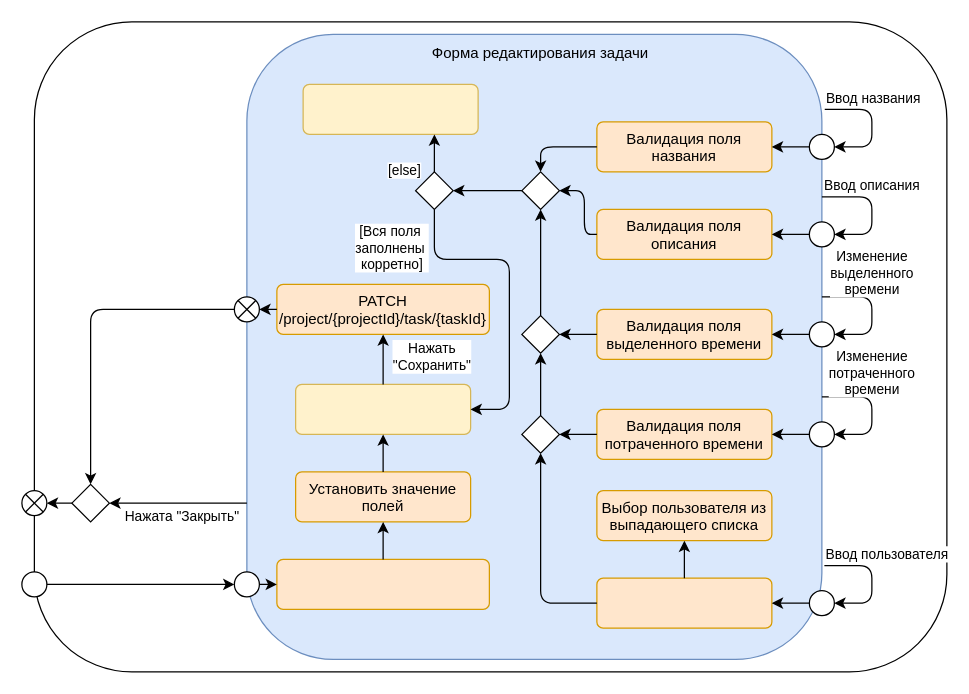
The diagram is 969 pixels wide and 694 high, and some of its shapes have lost their labels. The shapes that lost their labels are listed below. From the top down, each one's centre as x and y in pixels, then its label:
point 390,108: Кнопка "Сохранить" неактивна
point 382,408: Кнопка "Сохранить" активна
point 382,583: GET /project/{projectId}/task/{taskId}
point 684,602: GET /users
